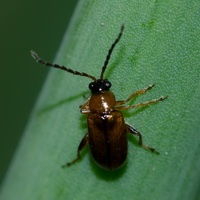insect: (31, 24, 167, 169)
